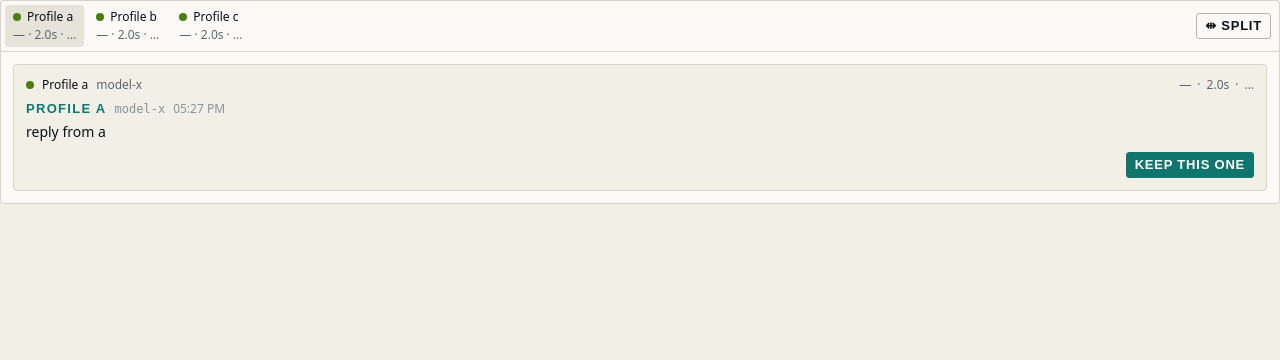
VariantTabs › the Split toggle swaps the single active card for a grid of every variant, using the same card renderer
This screenshot has width=1280, height=360.
Expected: the element with test id "variant-card-a" is shown, x1=13 y1=64 x2=1267 y2=191
Click the button with aria-label "split view" at (1234, 26), box x1=1196 y1=13 x2=1271 y2=39
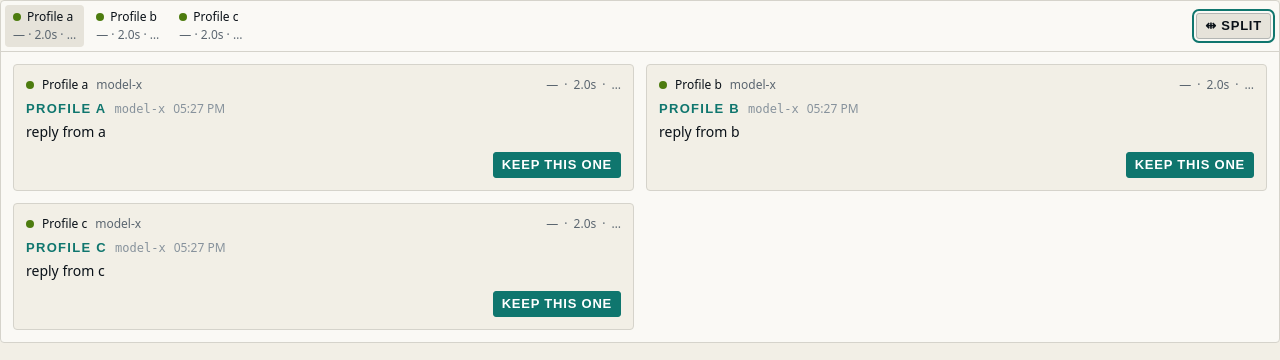
Result: the element with test id "compare-split" is shown
Result: the element with test id "variant-card-b" is shown at x1=646 y1=64 x2=1267 y2=191
Result: the element with test id "variant-card-c" is shown at x1=13 y1=203 x2=634 y2=330
